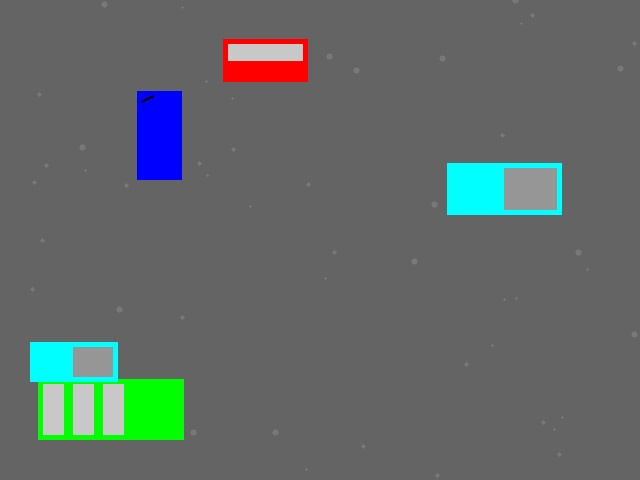bus: (38, 379, 183, 439)
car: (223, 39, 307, 81)
motorcycle: (137, 91, 181, 179)
truck: (447, 163, 561, 214), (30, 342, 117, 381)
